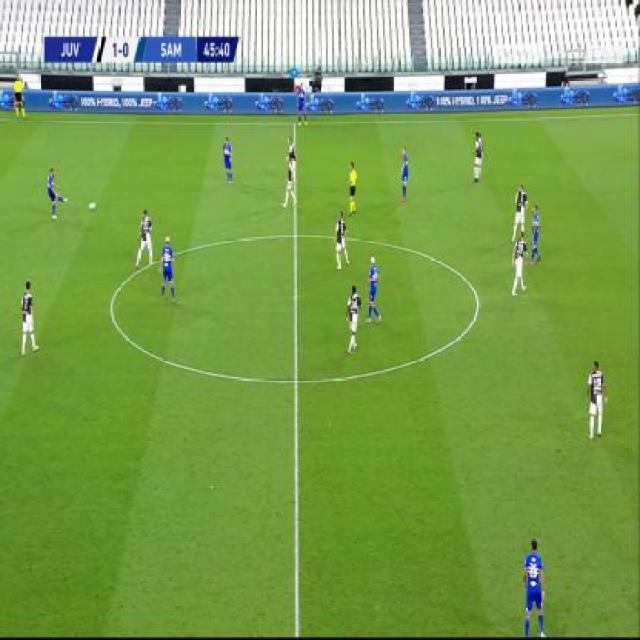ball: (88, 199, 97, 213)
player: (521, 535, 549, 640), (586, 358, 609, 443), (16, 278, 39, 357), (157, 236, 176, 307), (346, 285, 363, 356), (332, 208, 351, 270), (365, 255, 382, 324), (46, 169, 69, 220), (511, 182, 530, 241), (512, 231, 529, 296), (137, 208, 153, 270), (281, 153, 298, 210), (529, 204, 543, 266), (345, 161, 359, 217), (220, 136, 236, 185), (470, 132, 484, 183), (13, 72, 27, 121), (399, 145, 410, 202), (294, 84, 308, 127), (286, 137, 299, 183)
